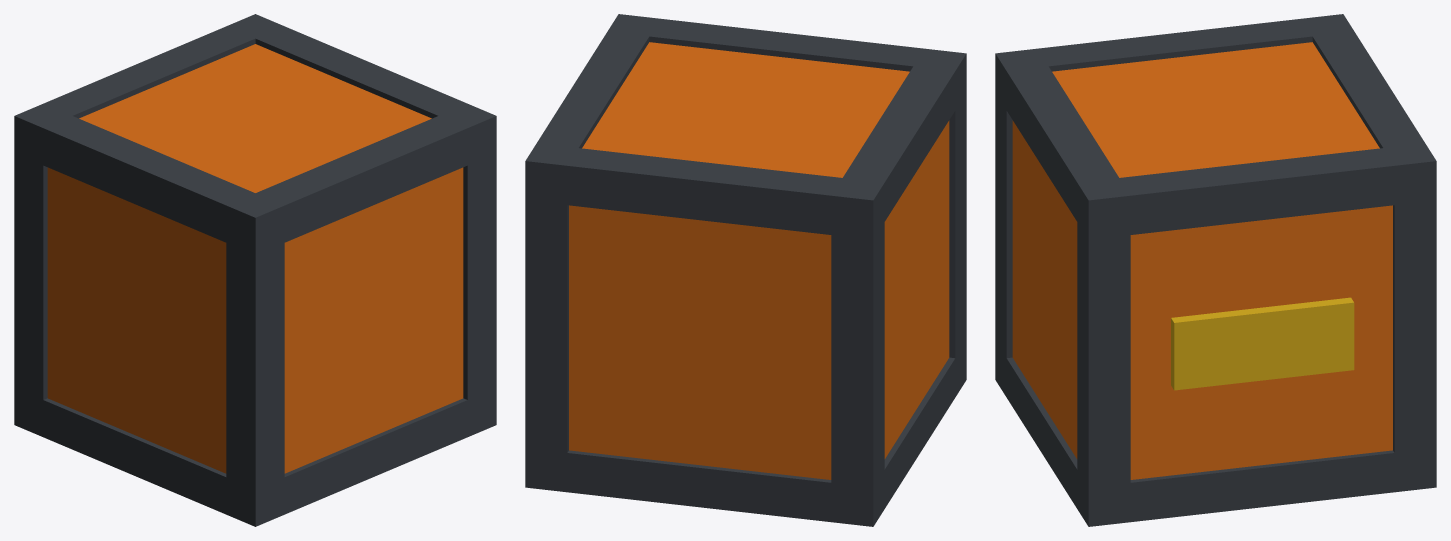
File: crate.glb
3 views of the same model, side by side, from view 1: azimuth 30°, elevation 25°; view 2: azimuth 150°, elevation 25°; view 3: azimuth 270°, elevation 25° (orthographic). The views are drawn at different scales.
Parts seen in each view (by area): view 1: Body; view 2: Body; view 3: Body.
Part boxes in pixels (x1=…): Body: x1=14, y1=14, x2=496, y2=526; Body: x1=525, y1=14, x2=966, y2=526; Body: x1=995, y1=14, x2=1436, y2=526.
Size of the model in its own units: 0.7104 by 0.58 by 0.7104.
